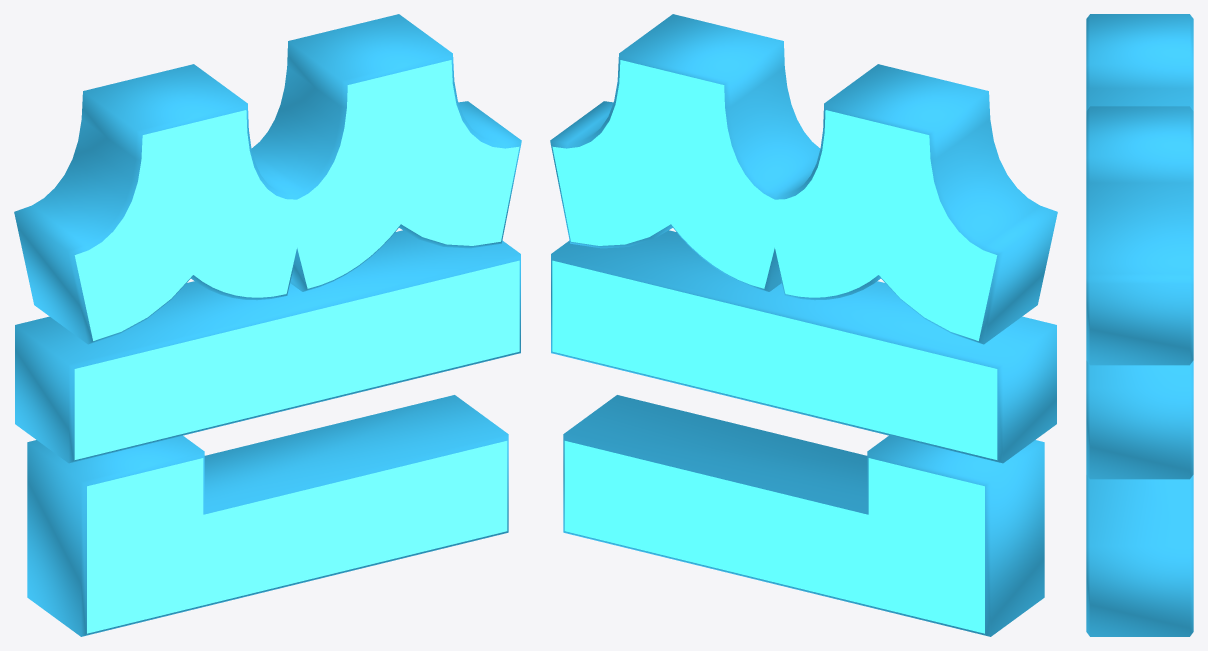
The picture shows the model from 3 angles, left to right: view 1: azimuth 30°, elevation 25°; view 2: azimuth 150°, elevation 25°; view 3: azimuth 270°, elevation 25°; orthographic projection. The views are drawn at different scales.
Parts seen in each view (by area): view 1: glyph; view 2: glyph; view 3: glyph.
Part boxes in pixels (bbox=[...]): glyph: bbox=[14, 14, 521, 636]; glyph: bbox=[550, 14, 1057, 636]; glyph: bbox=[1086, 14, 1193, 636].
Bounding box in the file's own units: 0.0729 × 0.0756 × 0.0162.
